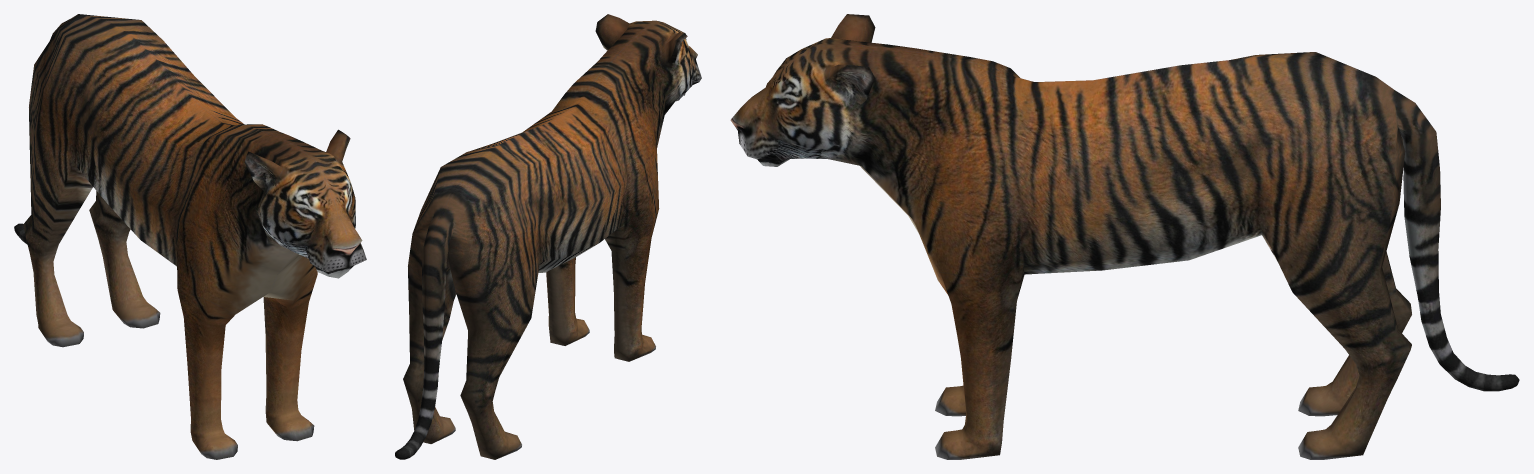
File: tiger.gltf
3 views of the same model, side by side, from view 1: azimuth 30°, elevation 25°; view 2: azimuth 150°, elevation 25°; view 3: azimuth 270°, elevation 25° (orthographic). The views are drawn at different scales.
Visible parts, largest first — view 1: Tiger_Cylinder.014; view 2: Tiger_Cylinder.014; view 3: Tiger_Cylinder.014.
Part boxes in pixels (x1,y1,x2,y2): Tiger_Cylinder.014: [14, 14, 366, 459]; Tiger_Cylinder.014: [395, 14, 701, 459]; Tiger_Cylinder.014: [730, 14, 1519, 459].
Bounding box in the file's own units: 1.54 × 3.67 × 6.74.
Materials: 1 (1 with a texture image).
